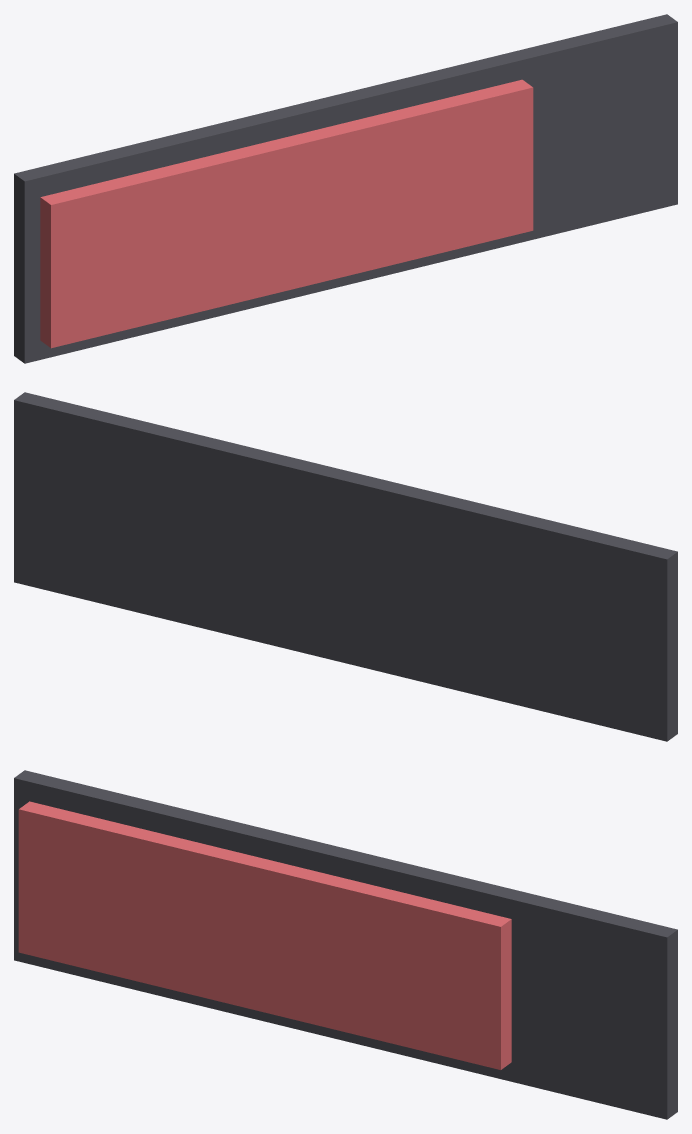
File: healthbar.glb
3 renders of one model, top to bottom at view 1: azimuth 30°, elevation 25°; view 2: azimuth 150°, elevation 25°; view 3: azimuth 330°, elevation 25°, orthographic.
Parts seen in each view (by area): view 1: healthbar; view 2: healthbar; view 3: healthbar.
Boxes of the visible parts, box(x1,y1,x2,y2) form: healthbar: box(14, 14, 677, 363); healthbar: box(14, 392, 677, 741); healthbar: box(14, 770, 677, 1119).
Bounding box in the file's own units: 2.1 × 0.56 × 0.12.
